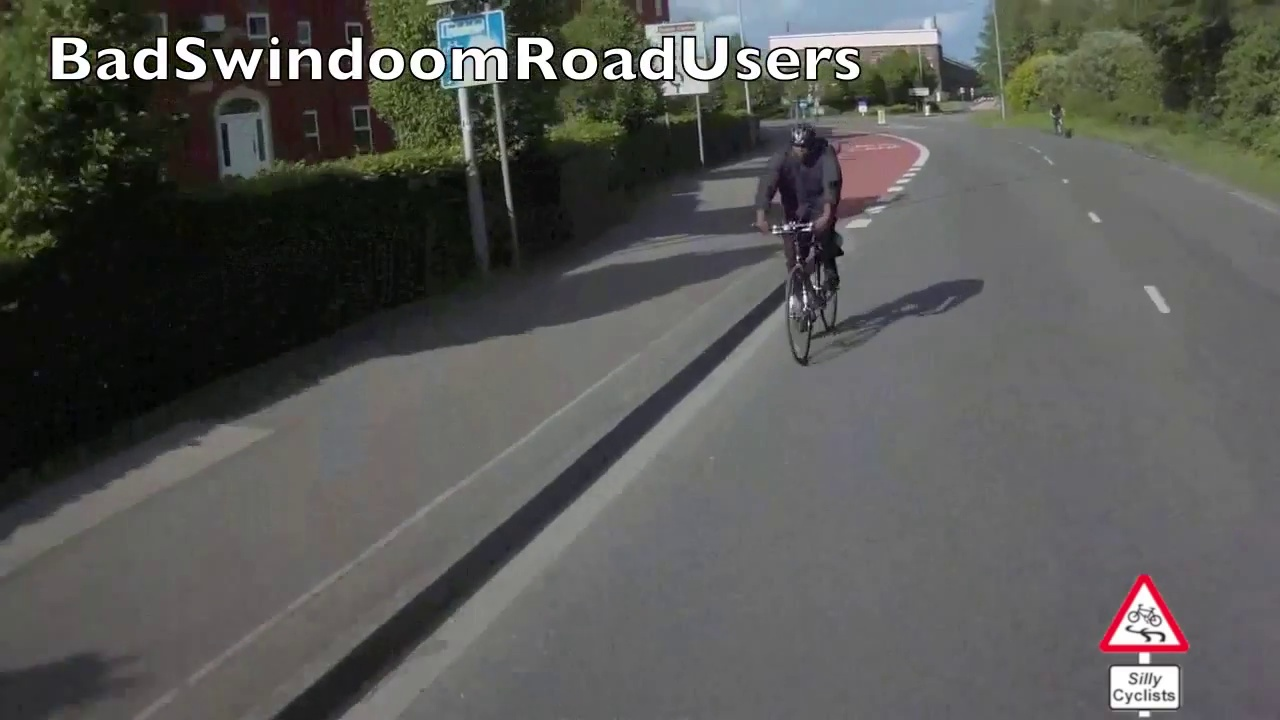cyclist_front: (755, 110, 851, 370)
